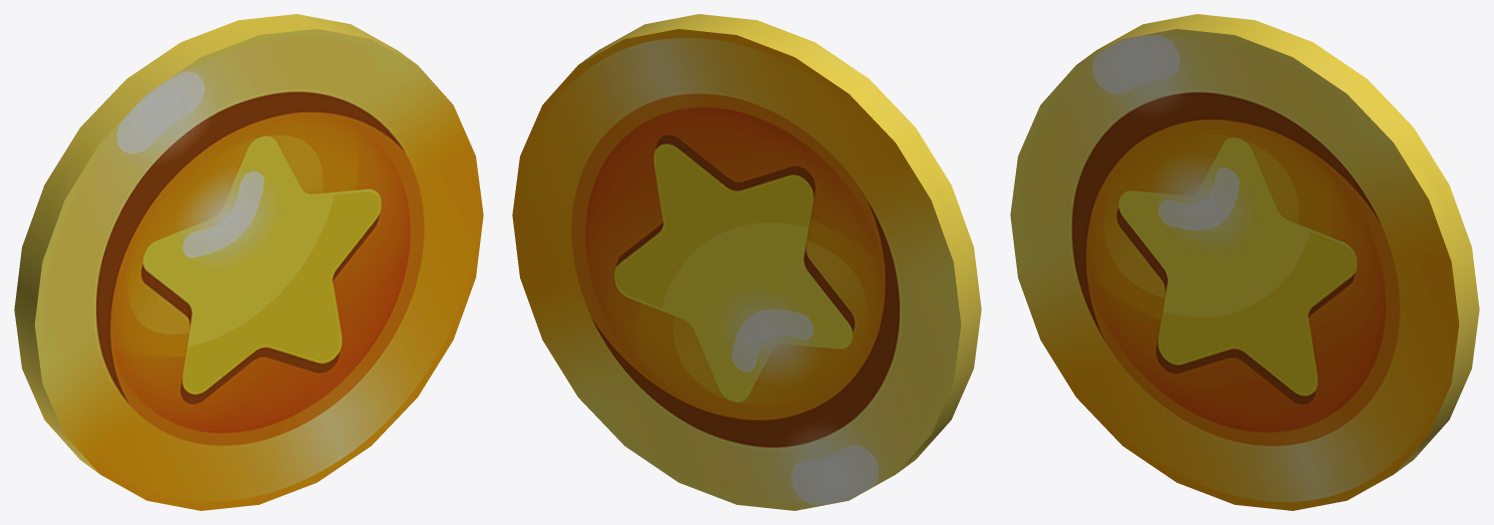
Rendered from Coin.fbx.
3 views of the same model, side by side, from view 1: azimuth 30°, elevation 25°; view 2: azimuth 150°, elevation 25°; view 3: azimuth 330°, elevation 25° (orthographic).
Visible parts, largest first — view 1: Coin; view 2: Coin; view 3: Coin.
Part boxes in pixels (x1=…): Coin: x1=14, y1=14, x2=483, y2=510; Coin: x1=512, y1=14, x2=981, y2=510; Coin: x1=1010, y1=14, x2=1479, y2=510.
Bounding box in the file's own units: 68.5 × 68.5 × 5.38.
1 material, 1 textured.
